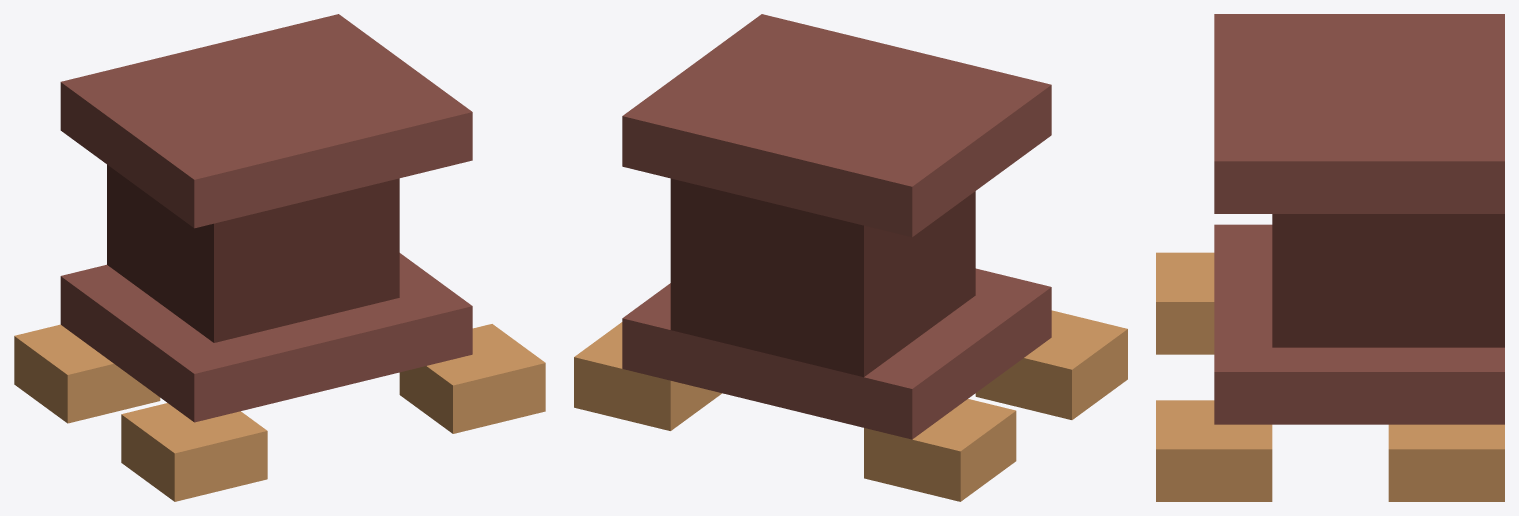
The model's file is CabinetSmall.obj.
3 views of the same model, side by side, from view 1: azimuth 30°, elevation 25°; view 2: azimuth 150°, elevation 25°; view 3: azimuth 270°, elevation 25° (orthographic). The views are drawn at different scales.
Bounding box in the file's own units: 8 × 6 × 6.
1 material, 1 textured.
